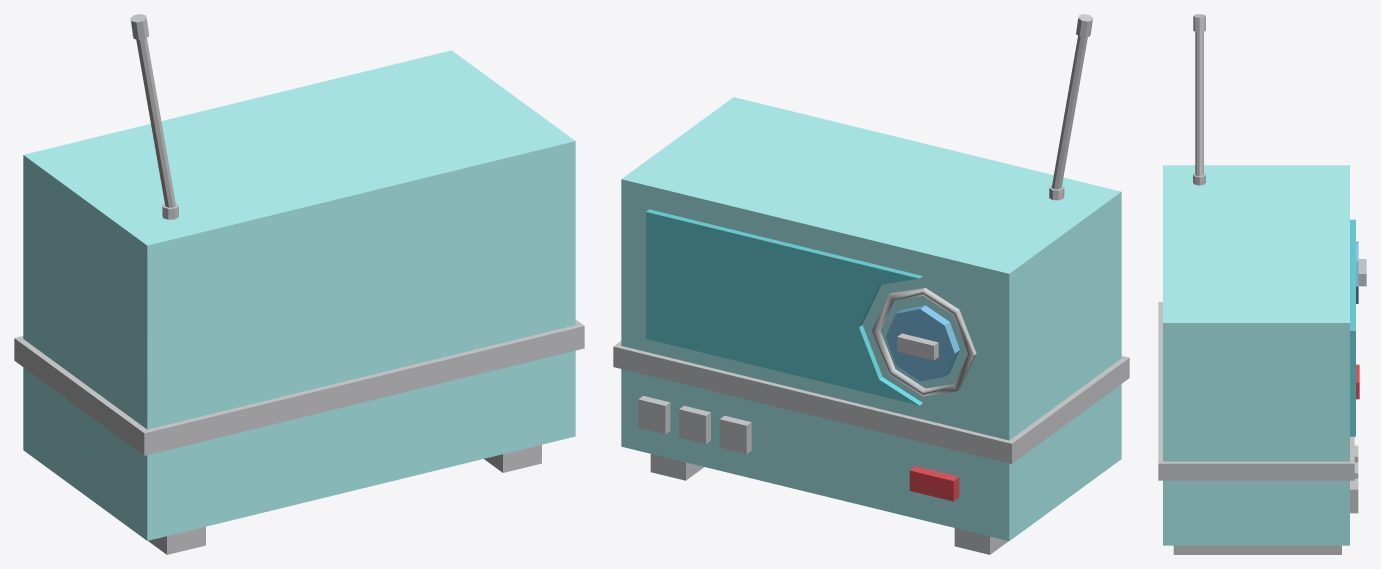
The model's file is radio.fbx.
3 views of the same model, side by side, from view 1: azimuth 30°, elevation 25°; view 2: azimuth 150°, elevation 25°; view 3: azimuth 270°, elevation 25° (orthographic). The views are drawn at different scales.
Visible parts, largest first — view 1: Cube.006; view 2: Cube.006, Cylinder.002; view 3: Cube.006, Cylinder.002.
Boxes of the visible parts, <box> form: Cube.006: <box>14,14,584,554</box>; Cube.006: <box>613,14,1129,554</box>; Cylinder.002: <box>886,305,959,381</box>; Cube.006: <box>1158,14,1359,554</box>; Cylinder.002: <box>1356,241,1366,303</box>.
Bounding box in the file's own units: 16.4 × 18.79 × 8.9.
